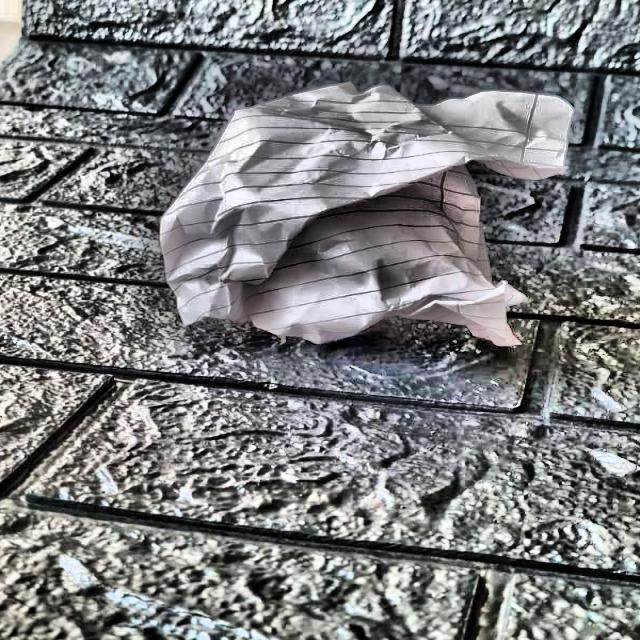paper: (154, 81, 586, 355)
